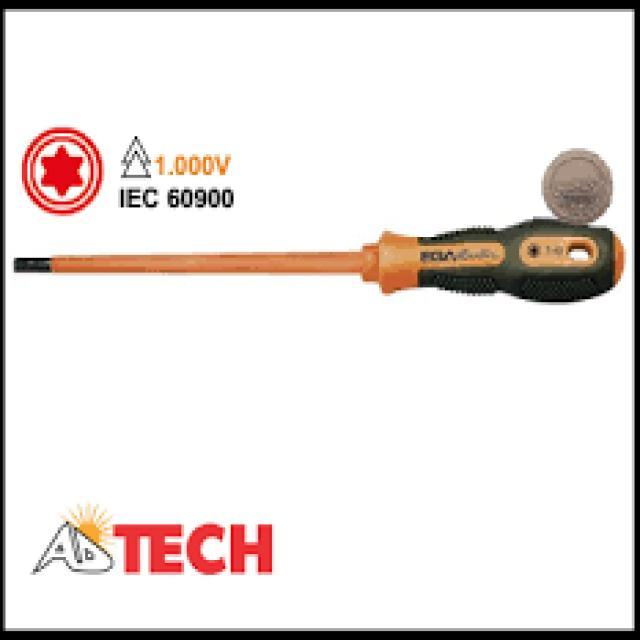screwdriver: (10, 218, 628, 318)
